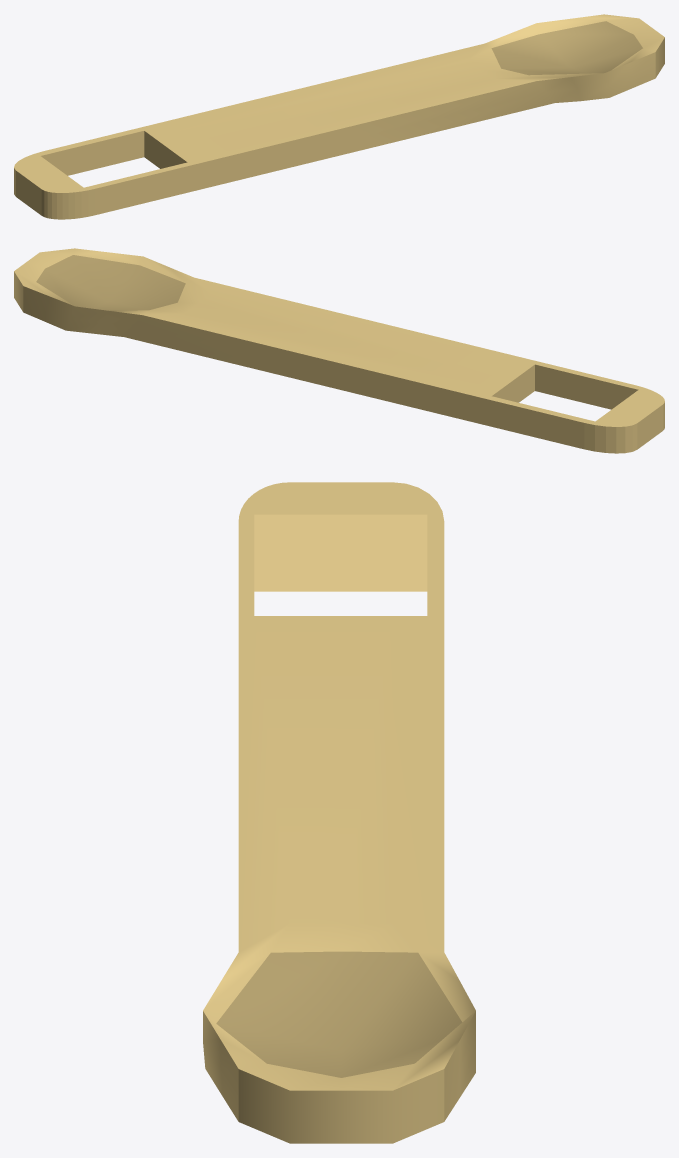
Rendered from StapicSkracen.fbx.
3 views of the same model, one above another, from view 1: azimuth 30°, elevation 25°; view 2: azimuth 150°, elevation 25°; view 3: azimuth 270°, elevation 25° (orthographic). The views are drawn at different scales.
Visible parts, largest first — view 1: Cube.106; view 2: Cube.106; view 3: Cube.106.
Part boxes in pixels (x1,y1,x2,y2): Cube.106: [14, 14, 664, 219]; Cube.106: [14, 248, 664, 453]; Cube.106: [203, 482, 475, 1143].
Bounding box in the file's own units: 1.03 × 0.042 × 0.1962.
